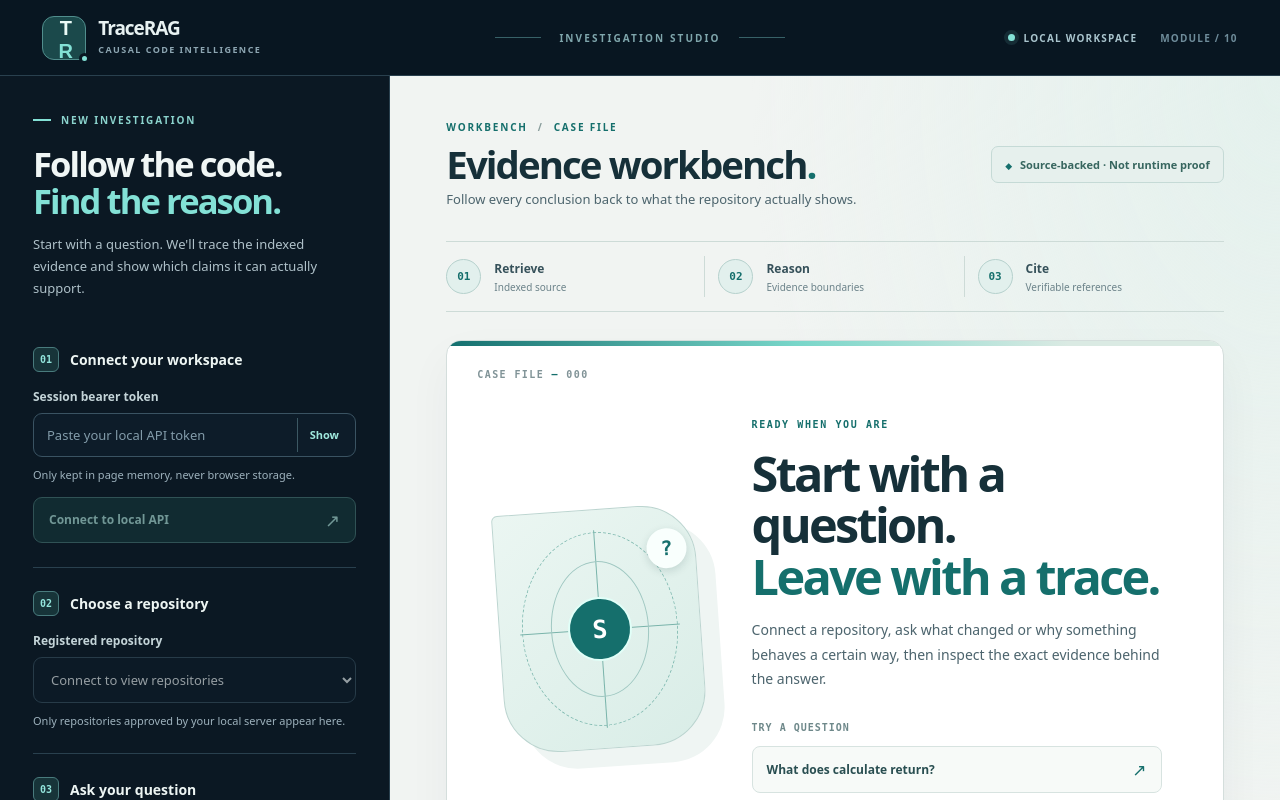
local evidence workbench › uses the case-file example to fill the existing question editor
Click the button "What does calculate return? ↗": x=851, y=769 [752,746,1162,793]
(page scrolled)
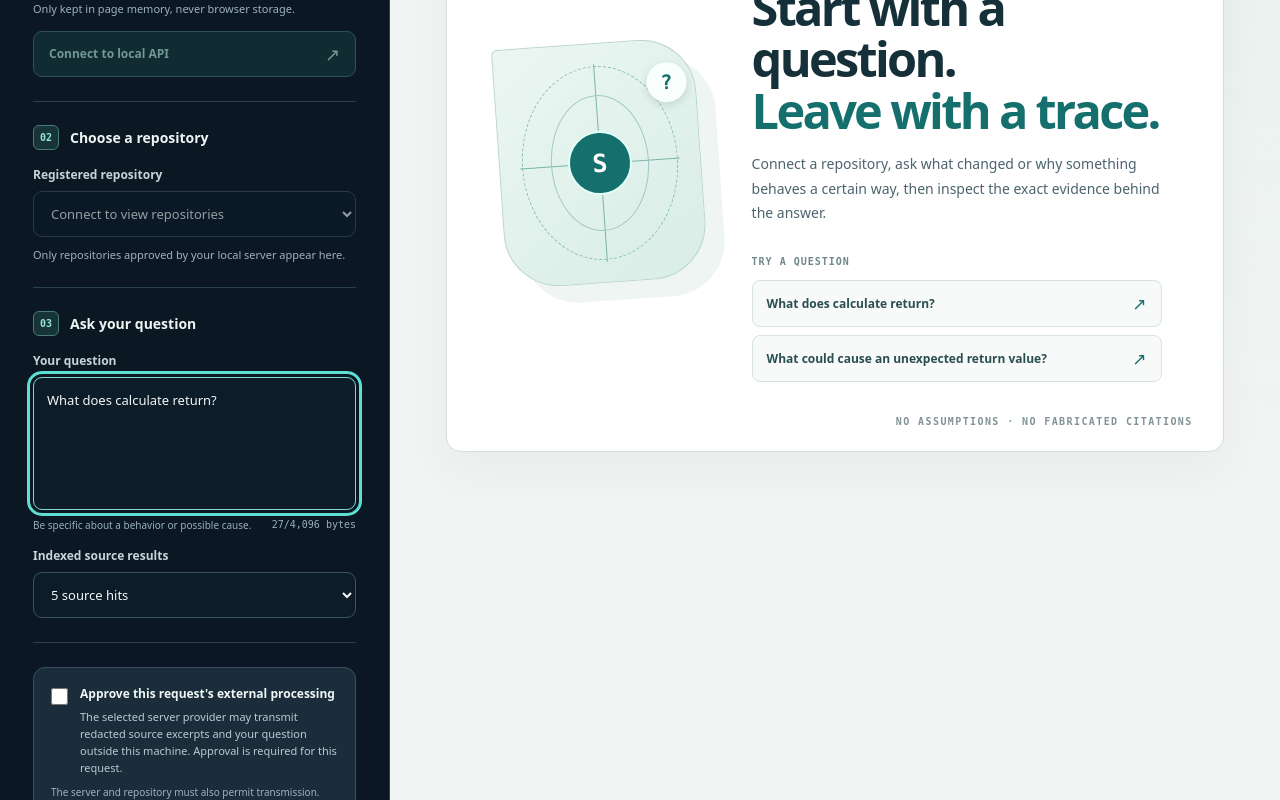
Check: the text box labelled "Your question" holds "What does calculate return?", box [33,377,356,510]
